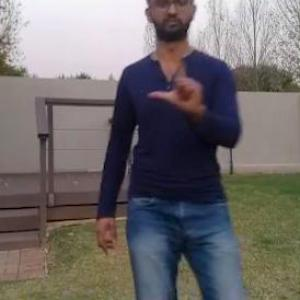land_hand: (145, 45, 209, 119)
